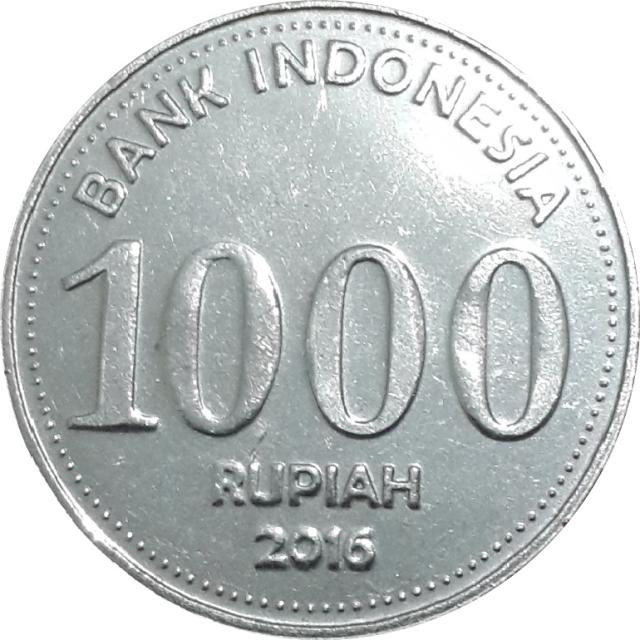1000-angklung: (2, 2, 639, 635)
